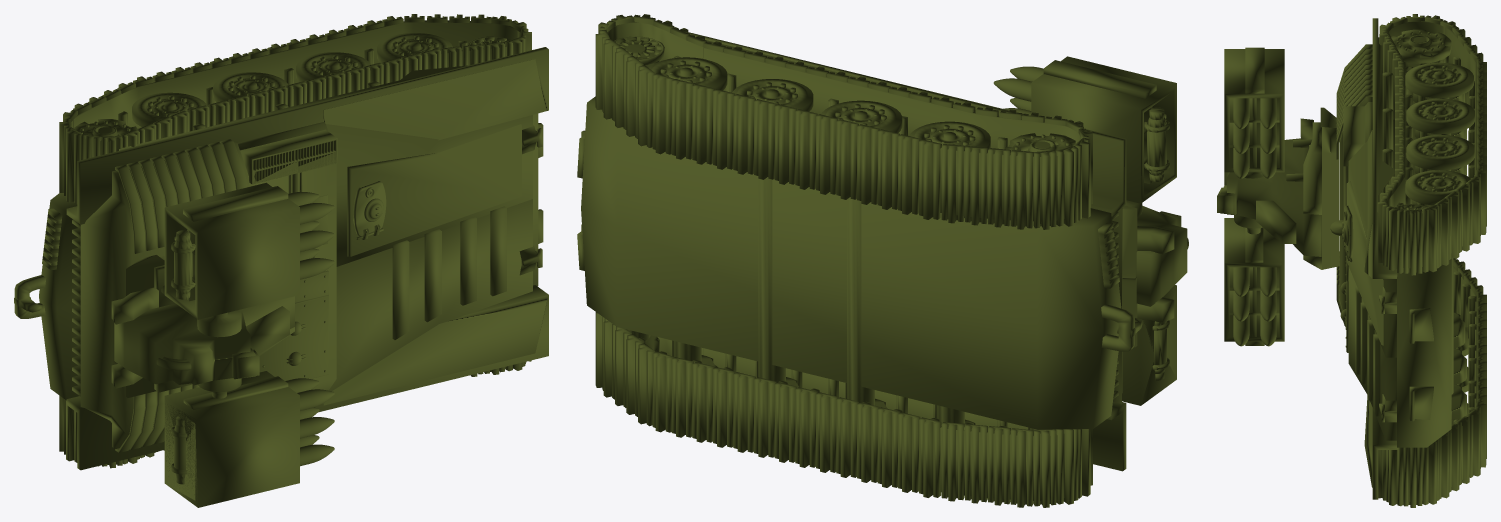
Rendered from wolverine.obj.
3 renders of one model, left to right at view 1: azimuth 30°, elevation 25°; view 2: azimuth 150°, elevation 25°; view 3: azimuth 270°, elevation 25°, orthographic. The views are drawn at different scales.
Size of the model in its own units: 4.73 by 2.85 by 2.37.
